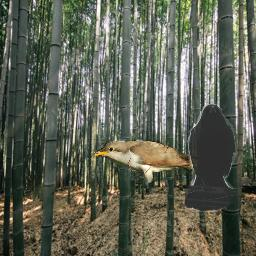Crow: (185, 104, 237, 212)
Cuckoo: (91, 139, 205, 193)
